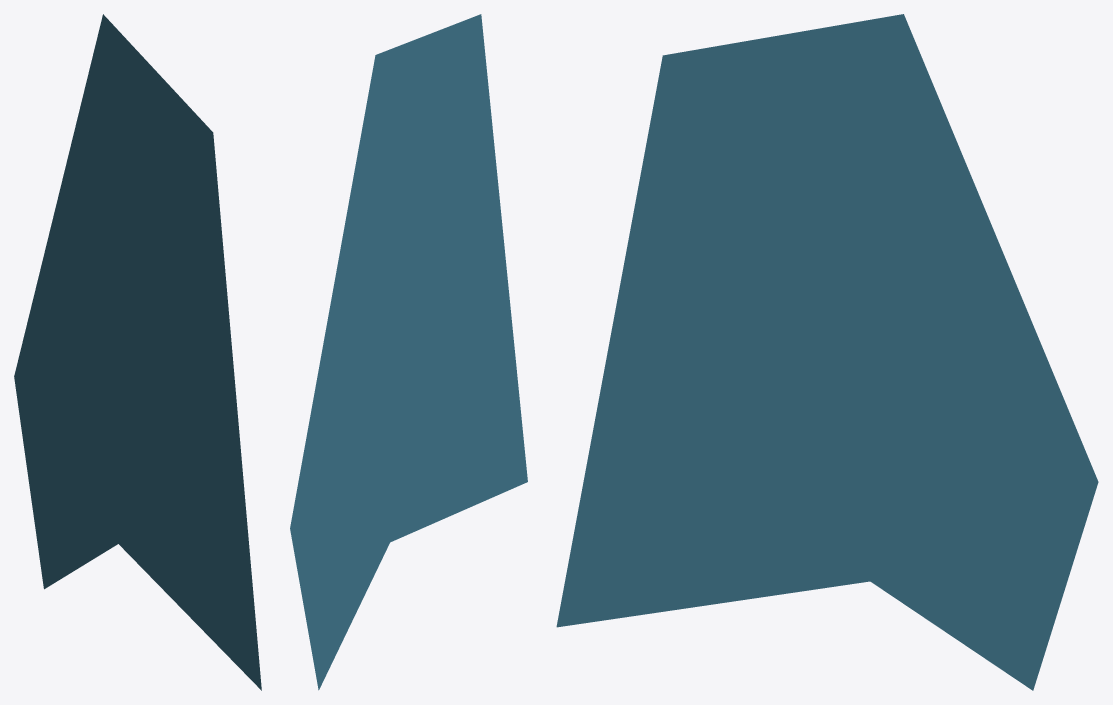
Rendered from NexusC_Cloth_10.fbx.
The picture shows the model from 3 angles, left to right: view 1: azimuth 30°, elevation 25°; view 2: azimuth 150°, elevation 25°; view 3: azimuth 270°, elevation 25°; orthographic projection. The views are drawn at different scales.
Visible parts, largest first — view 1: polySurface45; view 2: polySurface45; view 3: polySurface45.
Part boxes in pixels (box(x1,y1,x2,y2)): polySurface45: box(14, 14, 261, 690); polySurface45: box(290, 14, 527, 690); polySurface45: box(556, 14, 1098, 690).
Bounding box in the file's own units: 0 × 51.87 × 37.64.
